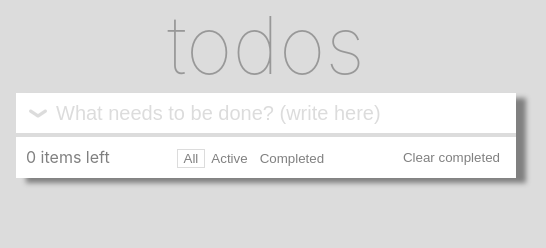
Test: App component › should add a new todo
Type "New Todo" into the field with placeholder "What needs to be done? (write here)" at point(266, 113), box [16,93,516,133]
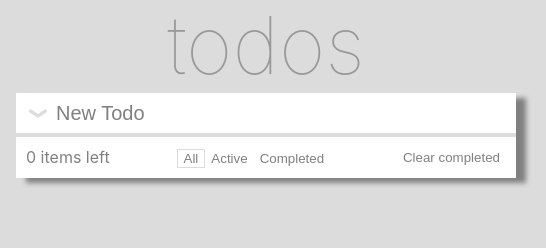
Press Enter in the field with placeholder "What needs to be done? (write here)", box [16,93,516,133]
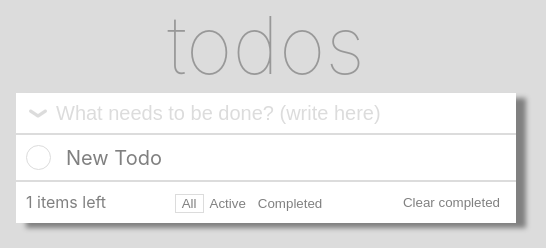
Now the text "New Todo" is shown, box [66,146,162,170]
